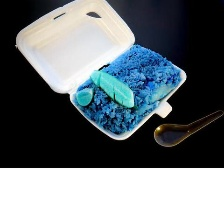foam_box: (9, 0, 191, 144)
